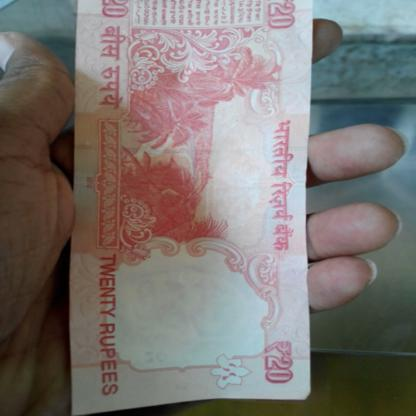Old20Back: (70, 0, 312, 416)
